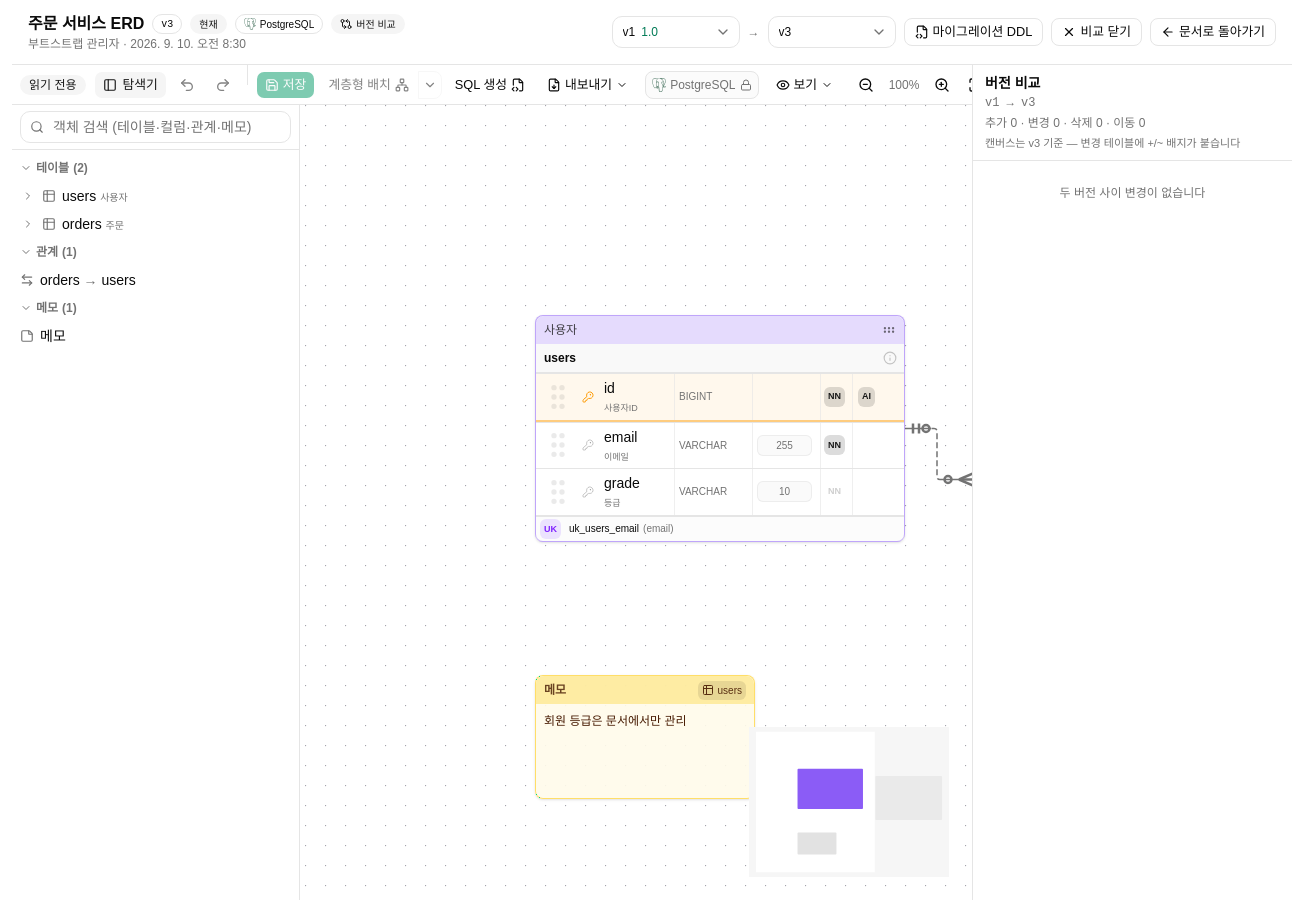
Test: 버전 기록 뷰어 — 비교 모드 (?compare=N) › 기준 버전 전환 — v3 기준 v1 → v2로 바꾸면 범위·요약이 다시 계산된다
Expected: the text "두 버전 사이 변경이 없습니다" is shown, x1=1060 y1=186 x2=1205 y2=200
Click the dropdown named "기준 버전".
click(676, 32)  # box x1=612 y1=16 x2=740 y2=48
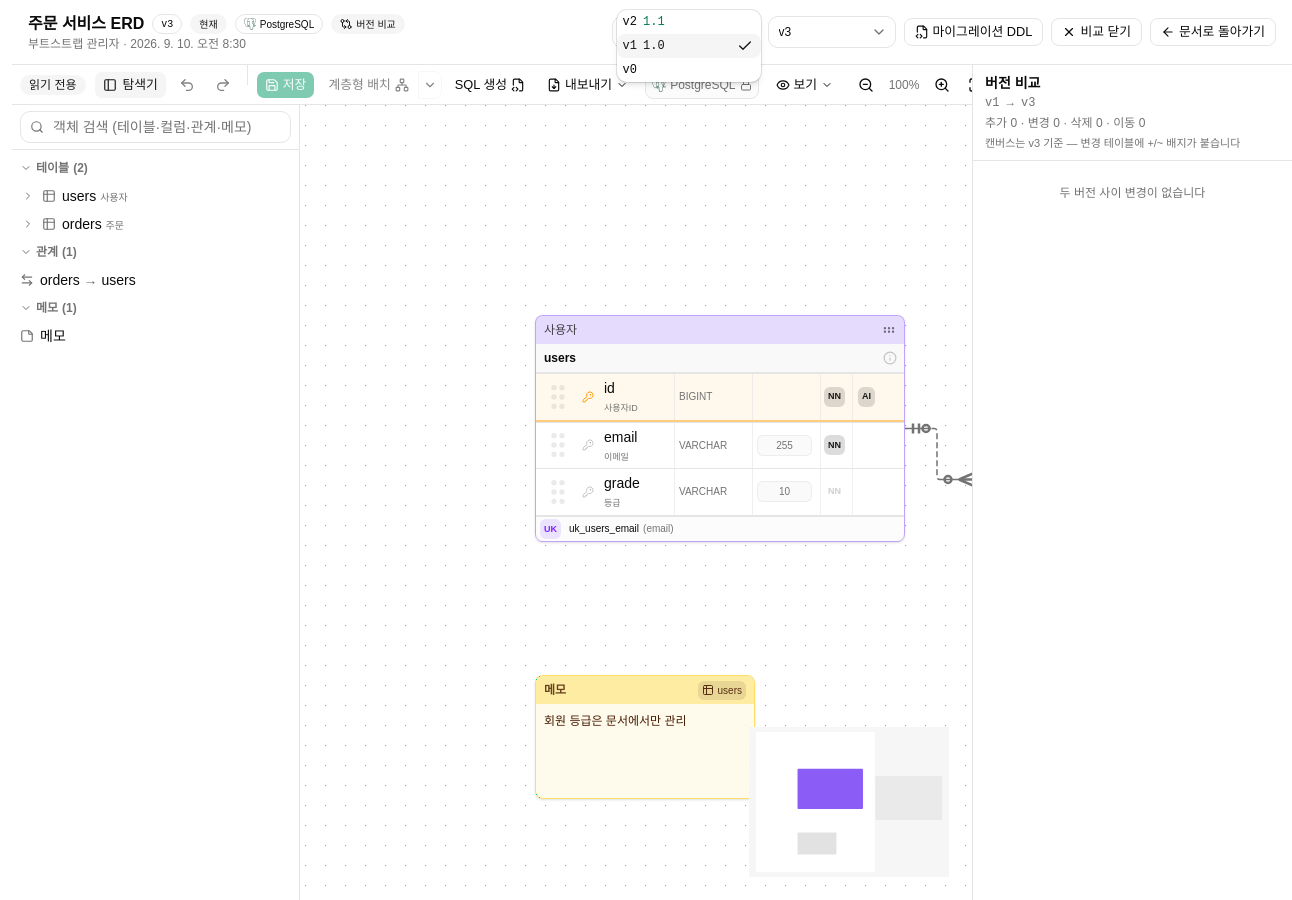
Click the option "v2 1.1".
click(644, 22)  # box x1=623 y1=15 x2=665 y2=29
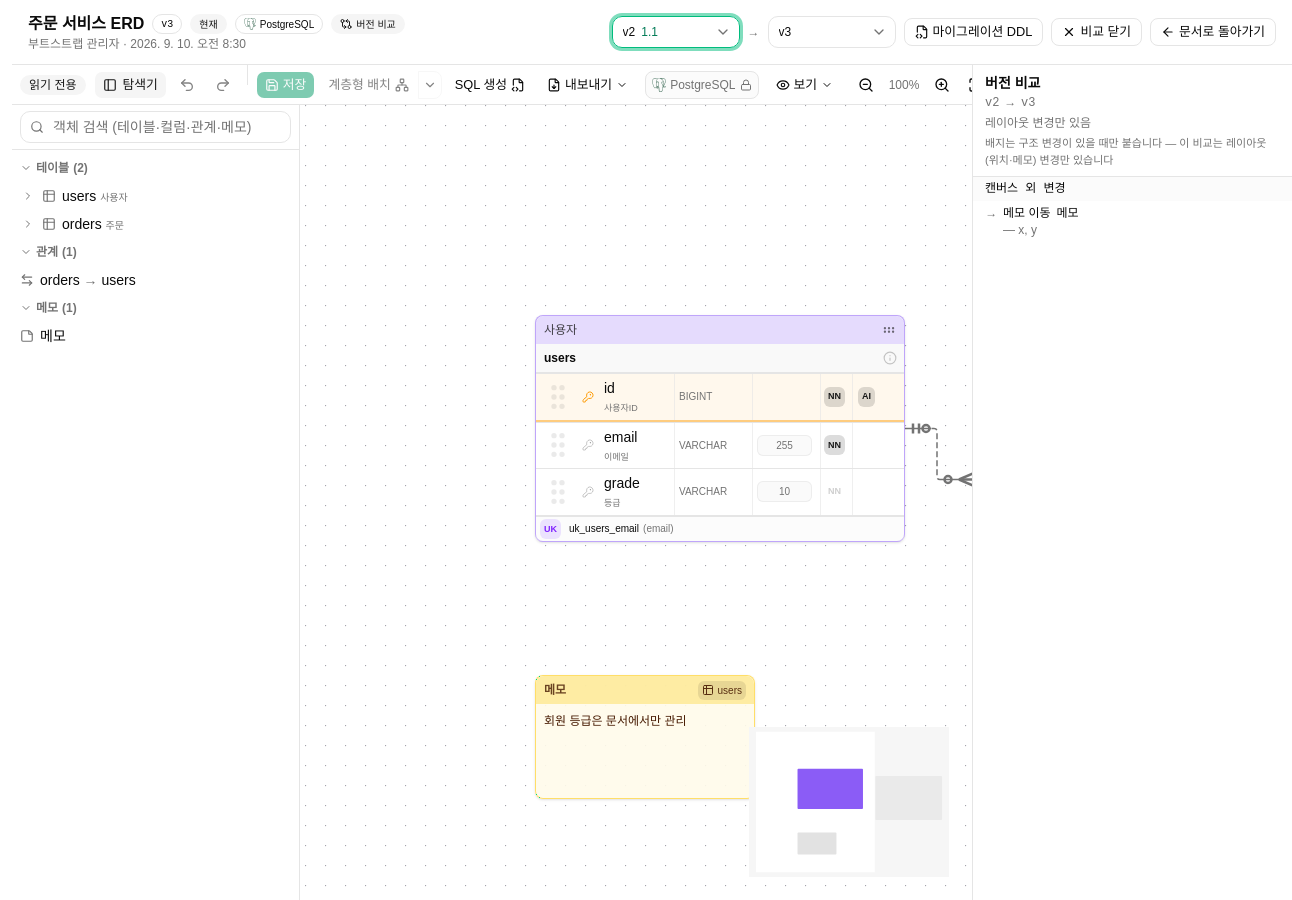
Result: the text "v2 → v3" is shown at x1=985 y1=96 x2=1035 y2=110
Result: the text "레이아웃 변경만 있음" is shown at x1=985 y1=116 x2=1091 y2=130
